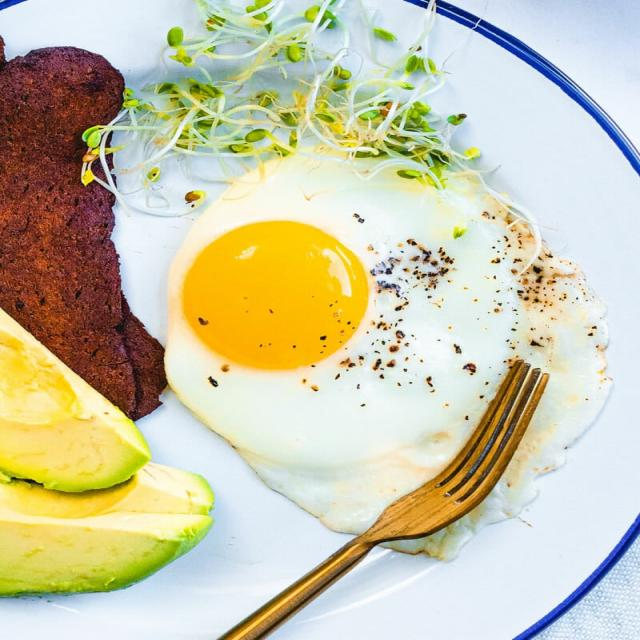eggs: (174, 136, 546, 509)
